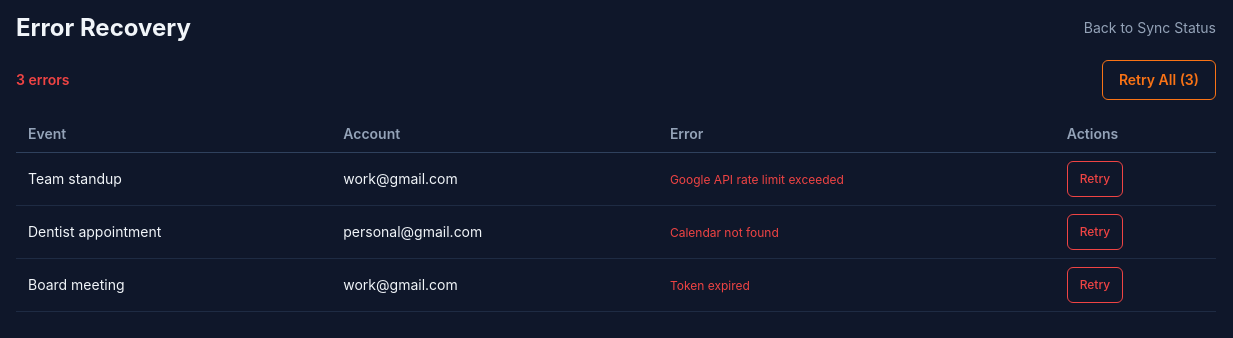
Test: ErrorRecovery Page › integration: single mirror retry › removes mirror from list on successful retry
Expected: the row with test id "error-row-m1" is shown, [16,152,1216,206]
Click the button with test id "retry-btn-m1" at coordinates (1095, 179), box [1067,161,1123,197]
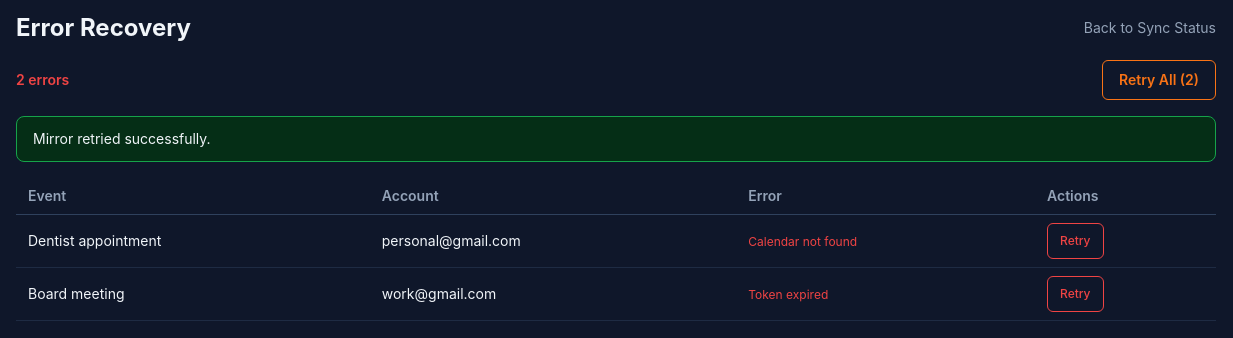
Expected: the row with test id "error-row-m2" is shown, [16,214,1216,268]
Result: the row with test id "error-row-m1" is gone
